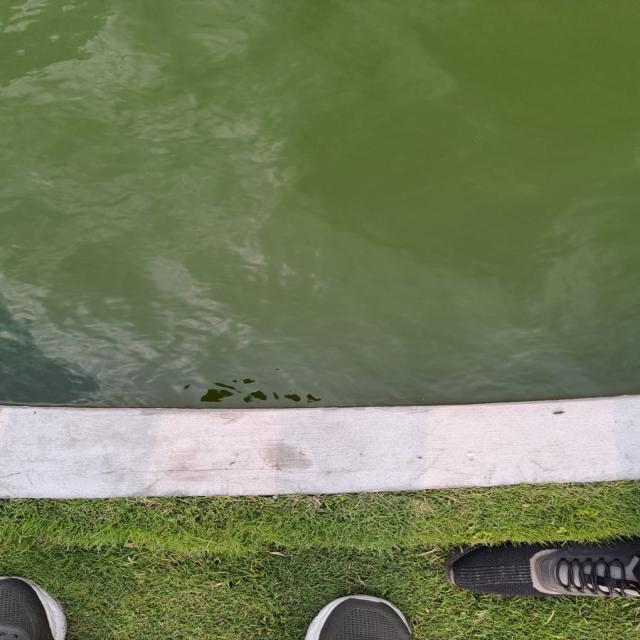Ponds: (1, 1, 640, 495)
